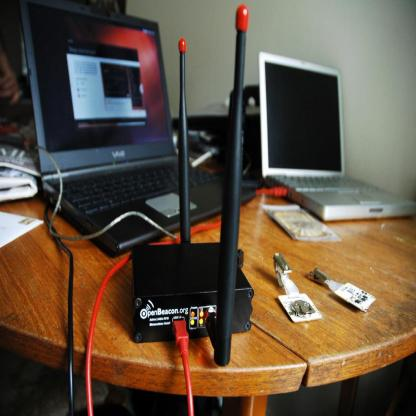board: (21, 0, 256, 254), (260, 49, 416, 218)
